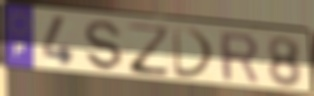4: (41, 13, 77, 72)
8: (266, 34, 304, 89)
D: (170, 25, 217, 81)
R: (217, 30, 261, 86)
S: (83, 19, 125, 73)
Z: (125, 21, 173, 79)
